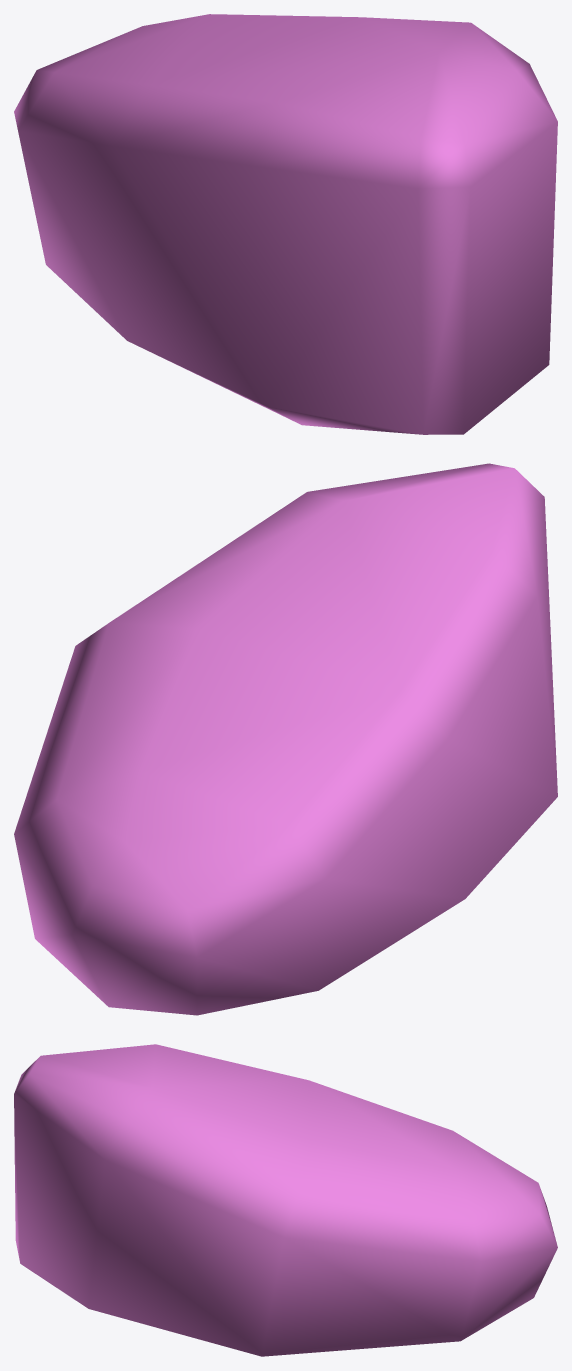
Rendered from prop_rock_small_02.fbx.
The picture shows the model from 3 angles, top to bottom: view 1: azimuth 30°, elevation 25°; view 2: azimuth 150°, elevation 25°; view 3: azimuth 270°, elevation 25°; orthographic projection. The views are drawn at different scales.
Parts seen in each view (by area): view 1: RockSmall2_low; view 2: RockSmall2_low; view 3: RockSmall2_low.
Boxes of the visible parts, <box> form: RockSmall2_low: <box>14,14,557,434</box>; RockSmall2_low: <box>14,463,557,1015</box>; RockSmall2_low: <box>14,1044,557,1356</box>.
Size of the model in its own units: 2.61 by 2.02 by 4.43.
